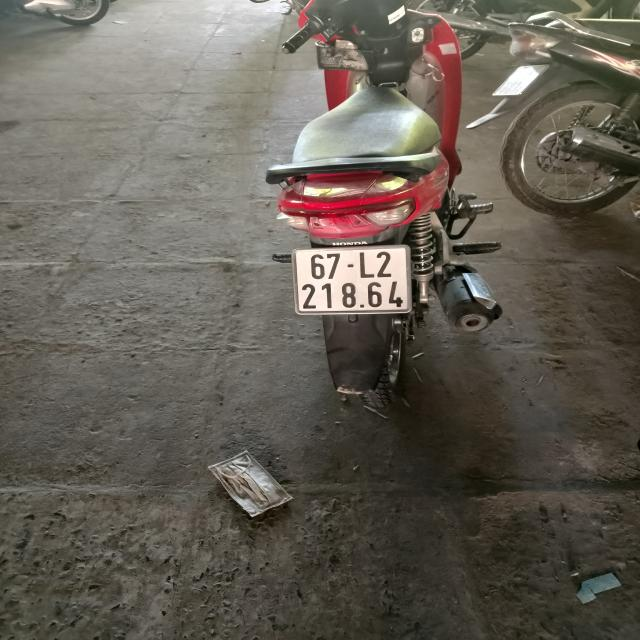1: (322, 282, 332, 309)
2: (376, 250, 394, 280), (300, 283, 318, 308)
4: (388, 280, 405, 307)
6: (307, 253, 327, 279), (368, 280, 382, 308)
7: (324, 252, 341, 281)
8: (342, 283, 358, 309)
L: (358, 248, 375, 278)
